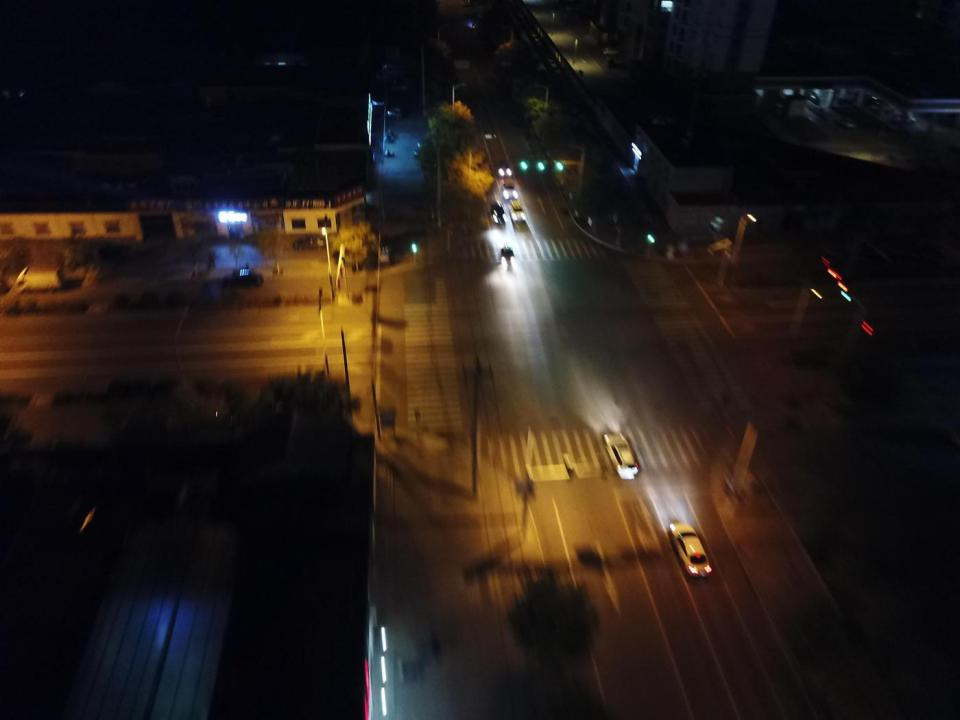car: (670, 522, 712, 578), (604, 432, 639, 479), (223, 269, 263, 286), (293, 233, 328, 250), (508, 200, 525, 221), (491, 200, 506, 222), (653, 114, 675, 129), (501, 178, 516, 198), (498, 159, 512, 178), (500, 246, 513, 266), (872, 101, 894, 112), (803, 88, 819, 102), (894, 114, 916, 124), (839, 115, 855, 127), (389, 82, 407, 91), (604, 46, 618, 56)
truck: (16, 266, 62, 294)
van: (840, 89, 862, 100), (387, 107, 404, 120)
